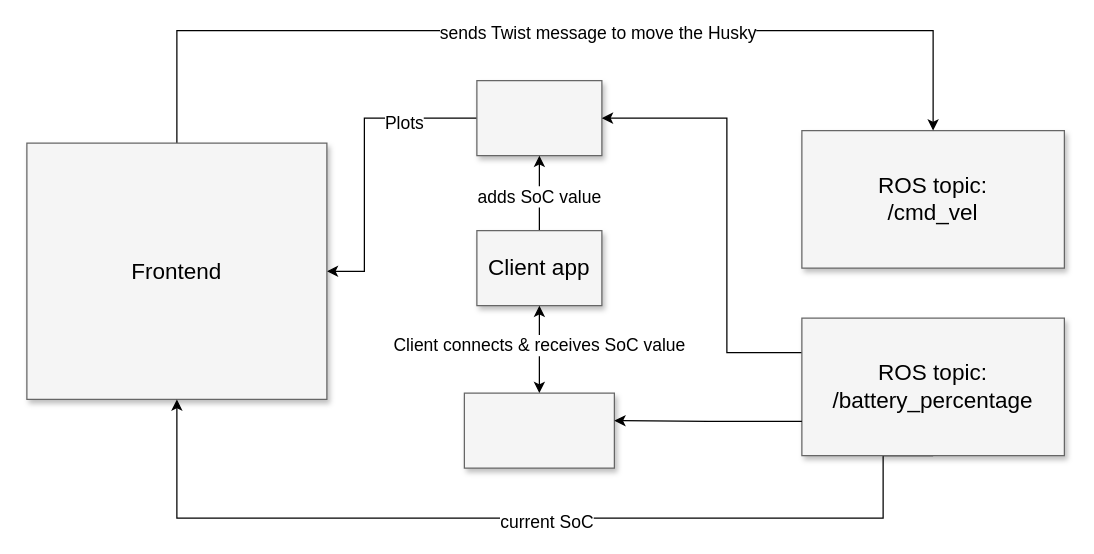
This 1094x554 diagram has some shape labels left out. Here are the shapes that lost their labels. From the top down, the centre of each, then its label:
At pixel 540 119: "Database".
At pixel 540 432: "OPCU-UA Server".
